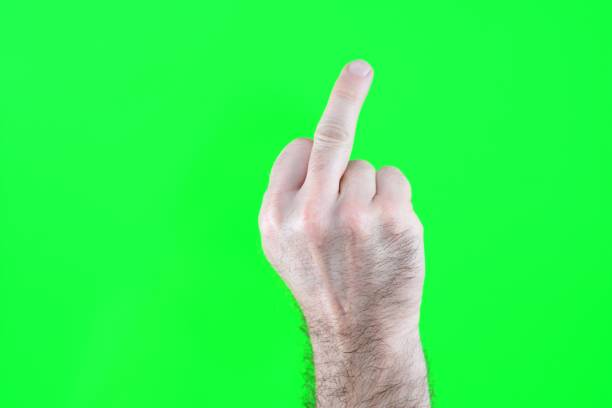insulting_gesture: (258, 59, 422, 352)
